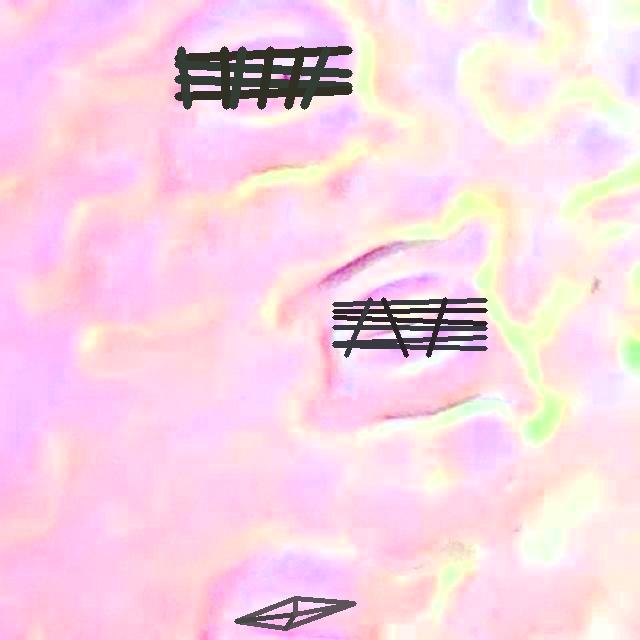open: (174, 46, 352, 109), (332, 297, 487, 357), (235, 597, 355, 630)
